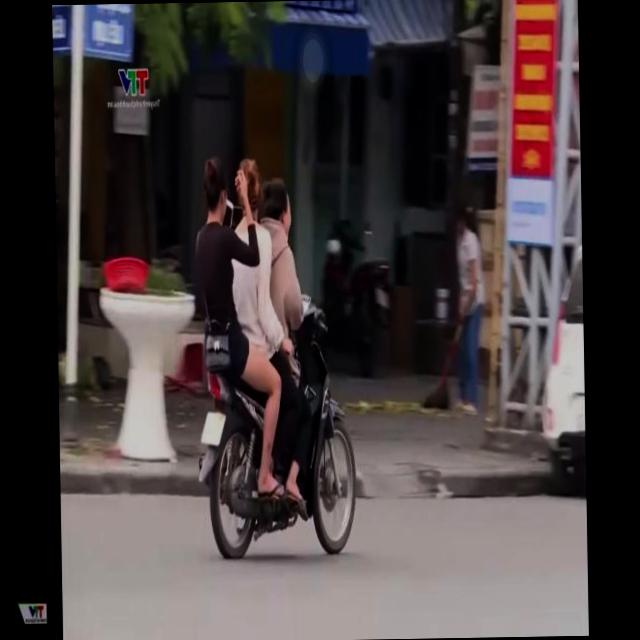motorcycle: (190, 290, 364, 562)
person: (188, 158, 244, 391), (226, 153, 274, 380), (253, 172, 308, 366)
rider_region: (179, 150, 372, 560)
